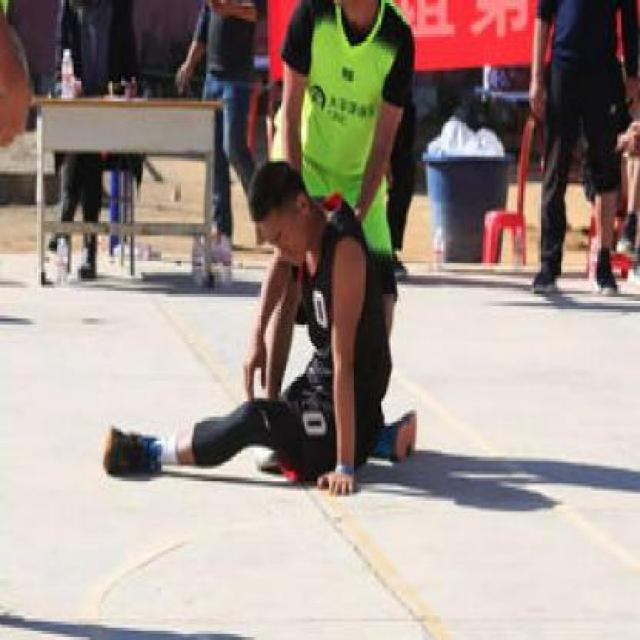fall: (75, 132, 428, 508)
